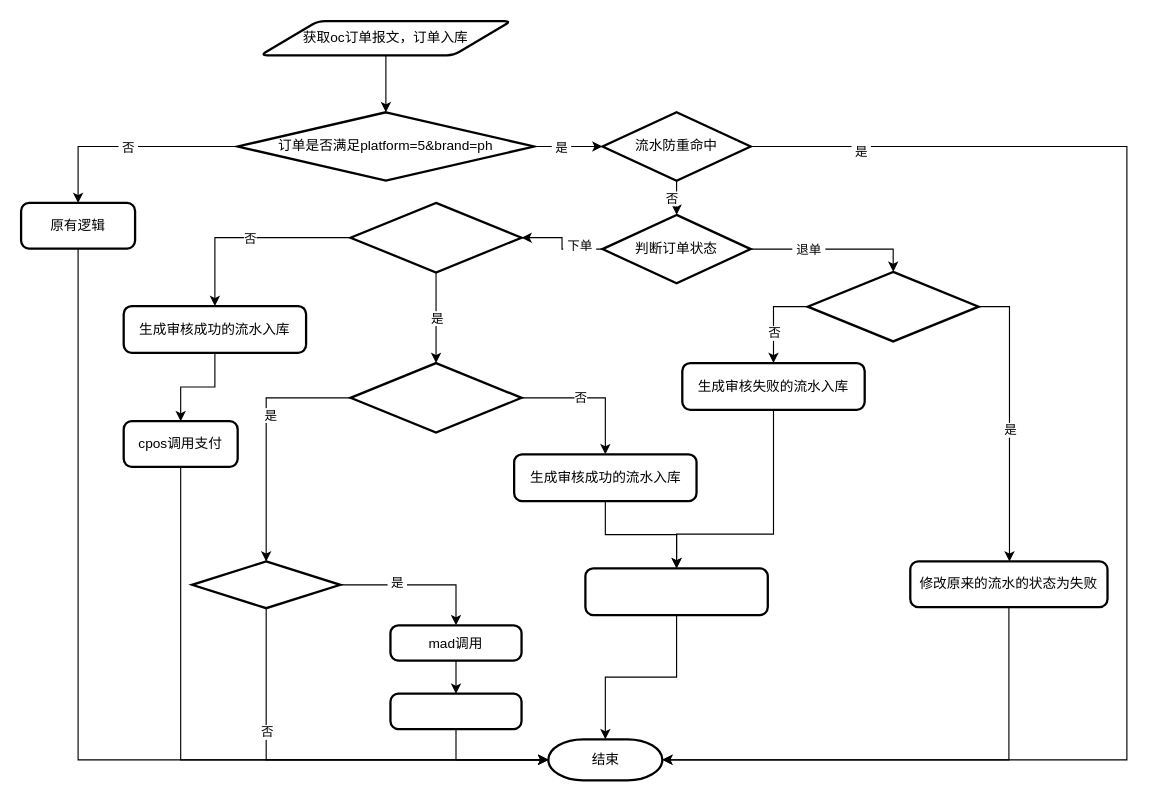
This 1156x800 diagram has some shape labels left out. Here are the shapes that lost their labels. From the top down, the centre of each, then its label:
the point at 435,237: 是否有非成功流水
the point at 892,306: 是否有审核成功的流水
the point at 435,397: 是否有审核失败的流水
the point at 265,584: 流水是否有效
the point at 676,591: 设置流水防重
the point at 455,711: elites事件
